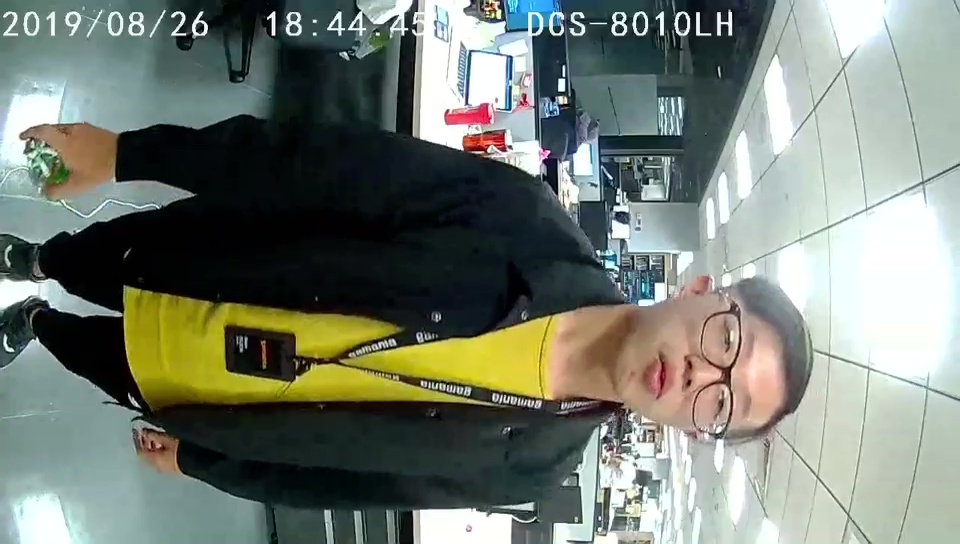buzz: (23, 136, 66, 184)
